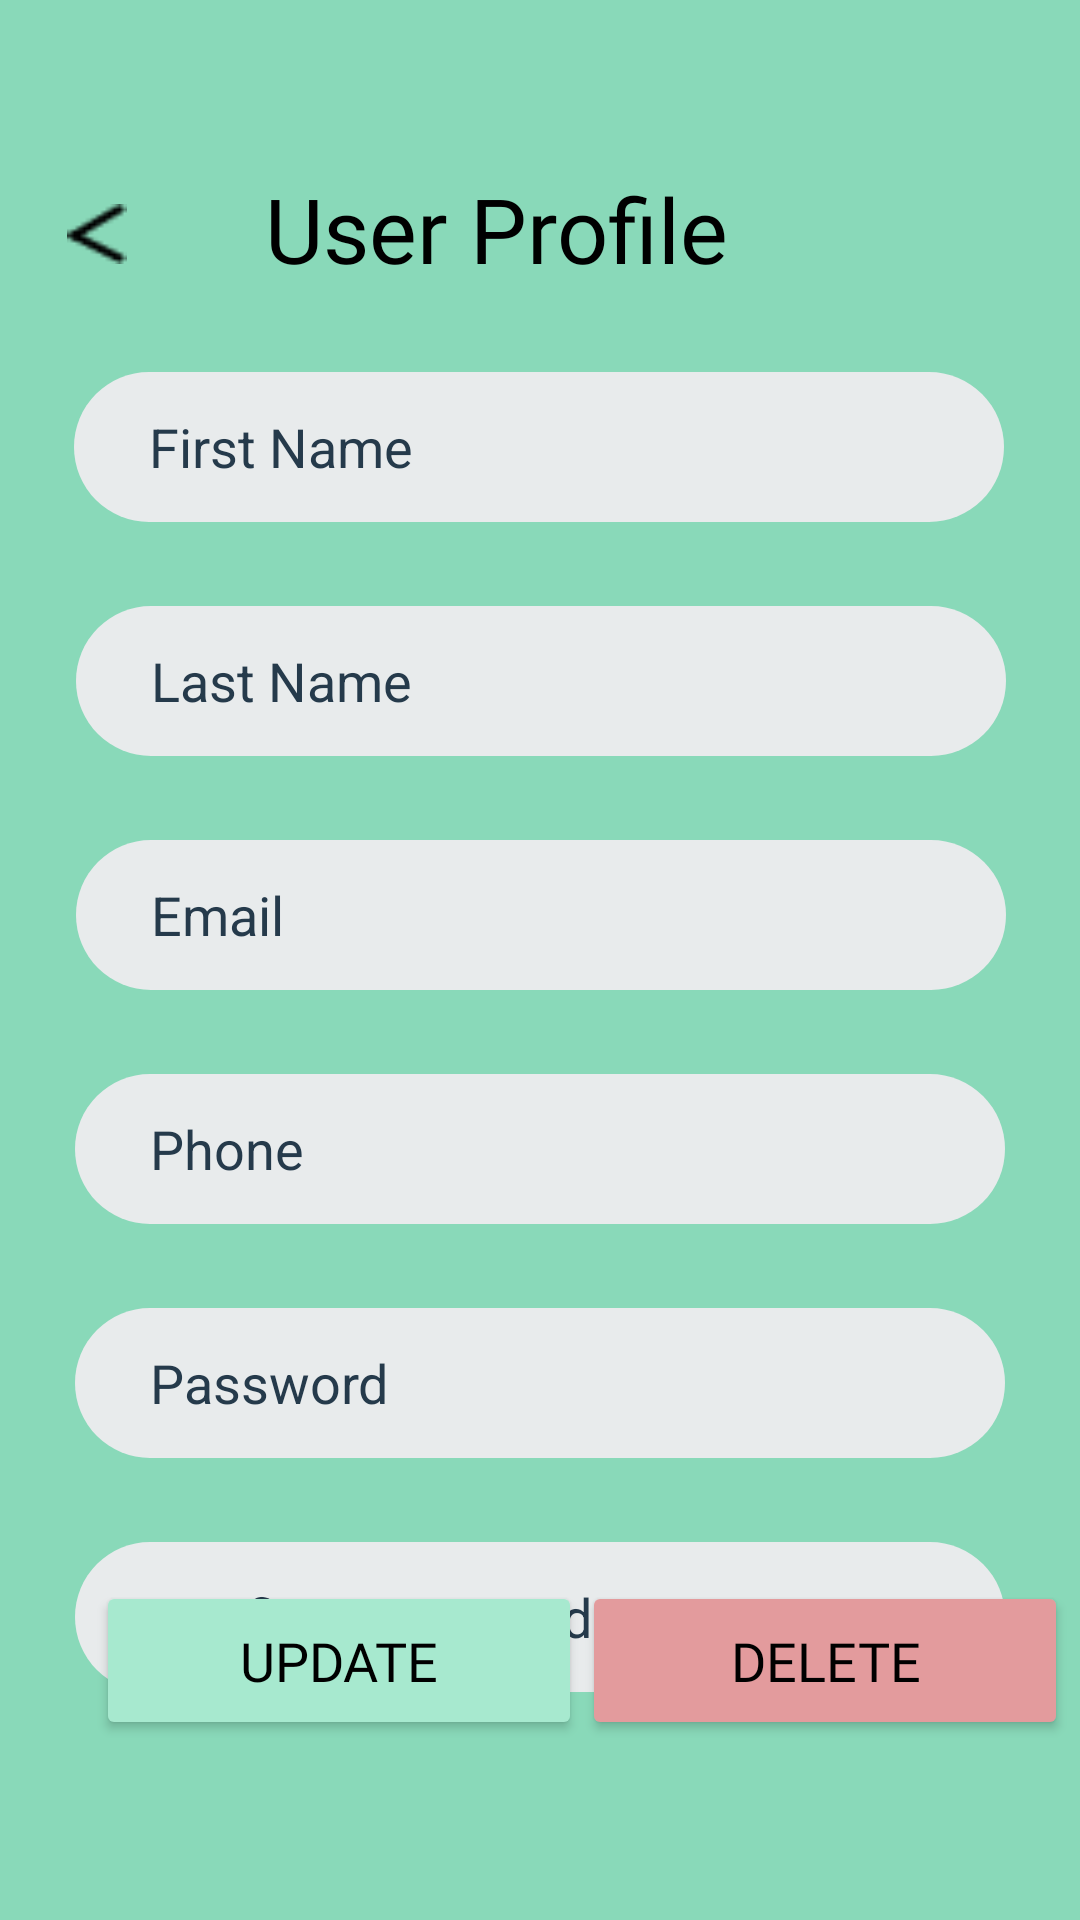

Named icons in this screenshot (1080px×1920px) and their bounding boxes, bbox(x1, y1, x2, y2):
left: bbox(67, 204, 127, 264)
